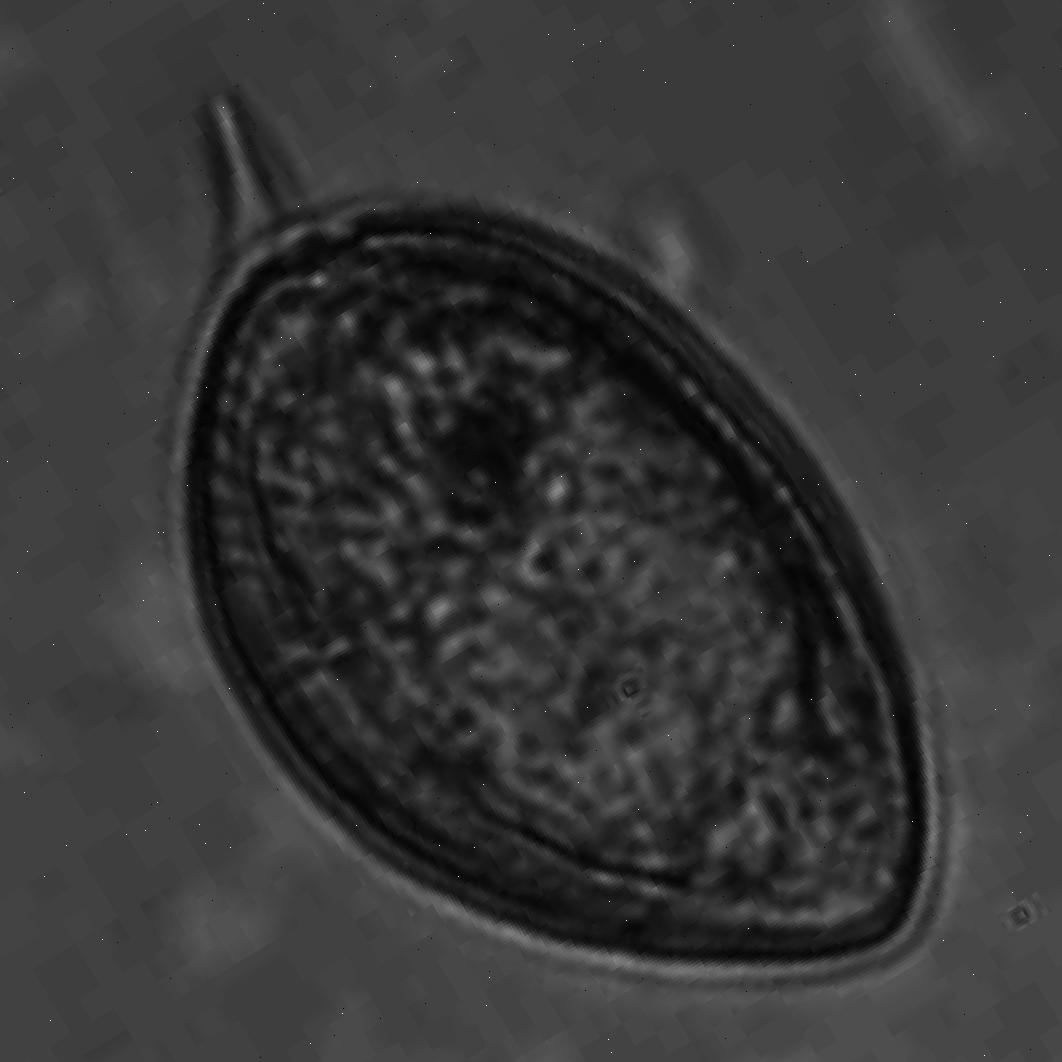prorocentrum_micans: (171, 88, 942, 985)
